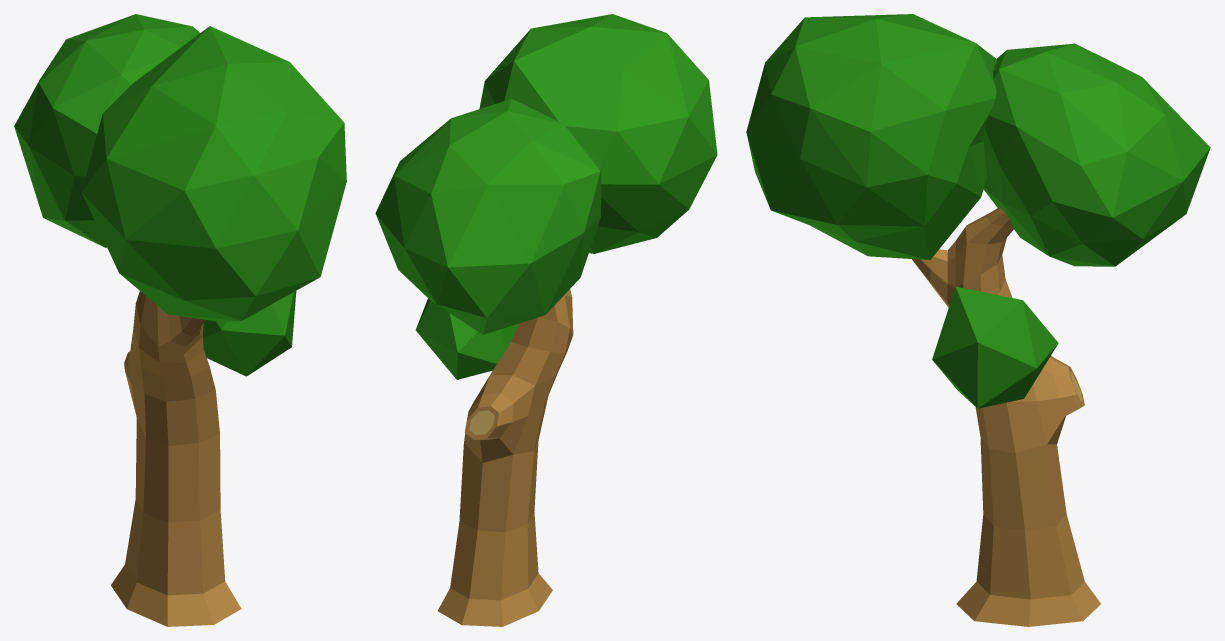
The model's file is lp-Tree_1.glb.
3 views of the same model, side by side, from view 1: azimuth 30°, elevation 25°; view 2: azimuth 150°, elevation 25°; view 3: azimuth 270°, elevation 25° (orthographic). The views are drawn at different scales.
Visible parts, largest first — view 1: lp-Tree_1; view 2: lp-Tree_1; view 3: lp-Tree_1.
Part boxes in pixels (left/top/right/bottom): lp-Tree_1: left=14, top=14, right=346, bottom=626; lp-Tree_1: left=375, top=14, right=717, bottom=626; lp-Tree_1: left=746, top=14, right=1210, bottom=626.
Size of the model in its own units: 5.3 by 12.32 by 9.06.
